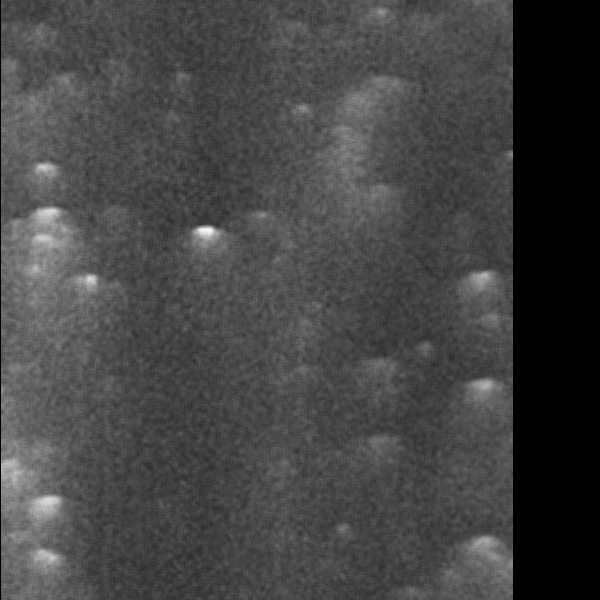spark: (17, 200, 76, 307), (458, 528, 512, 600), (27, 269, 103, 320), (349, 431, 409, 492), (4, 484, 74, 535), (345, 350, 410, 396), (182, 221, 225, 280), (2, 546, 76, 577), (461, 373, 509, 420), (465, 265, 498, 327), (1, 89, 42, 133), (437, 561, 468, 593), (366, 3, 396, 35), (26, 156, 59, 185), (414, 338, 437, 375), (251, 205, 275, 240), (474, 309, 513, 330), (287, 98, 314, 128), (327, 519, 354, 545)
